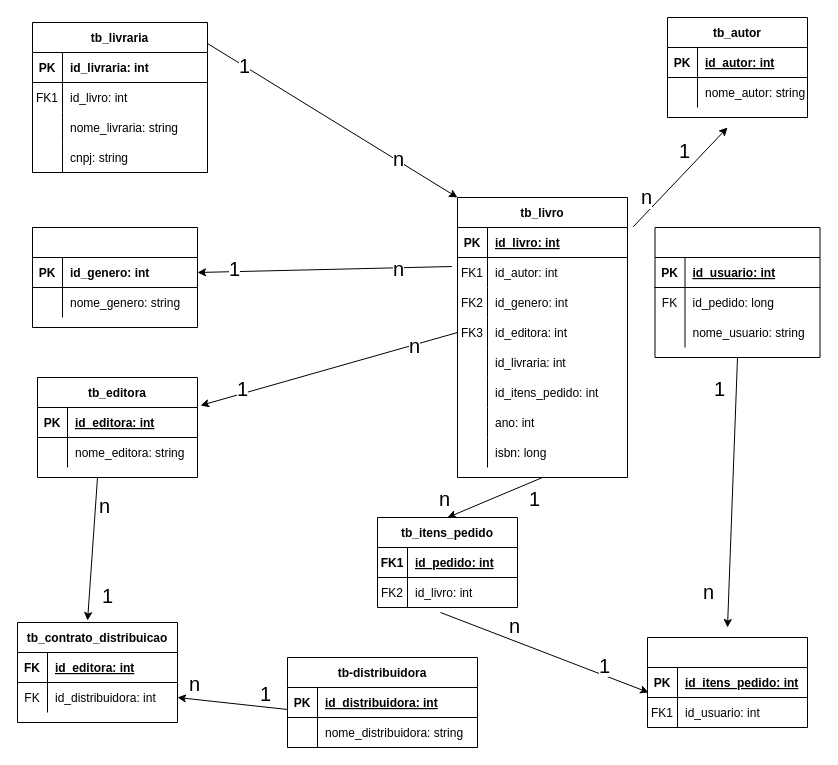
Some shapes in this 838 by 765 pixel diagram are drawn without their labels. The box of each missing label's shape, as (x1, y1, x2, y2) in pixels:
PEDIDOS: (646, 636, 808, 728)
tb_genero: (32, 226, 198, 328)
tb_usuario: (654, 226, 820, 358)
